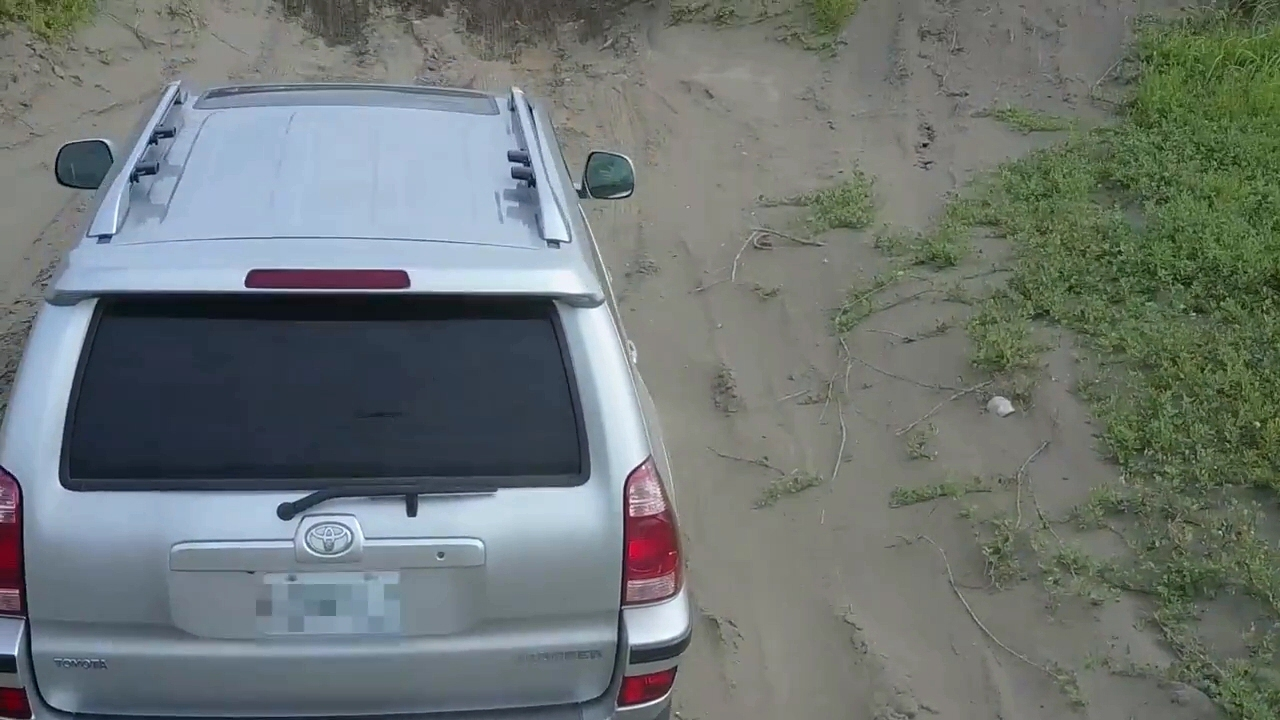araba: (1, 74, 692, 720)
